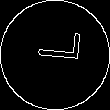L_W: (28, 37, 82, 73)
